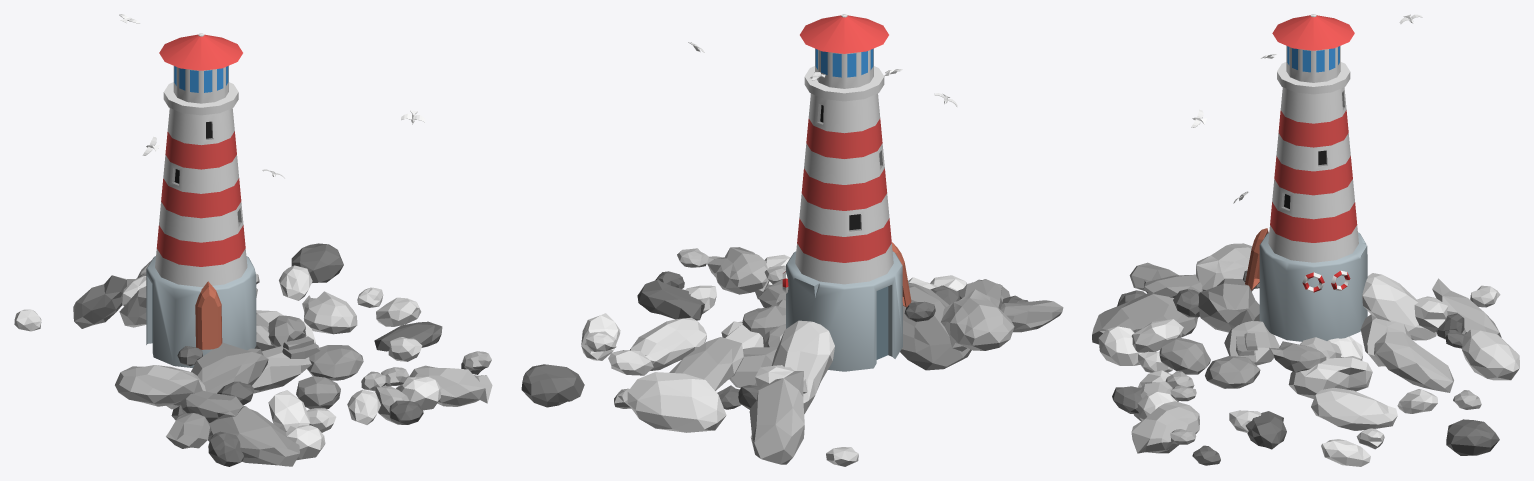
The model's file is lighthouse.glb.
3 renders of one model, left to right at view 1: azimuth 30°, elevation 25°; view 2: azimuth 150°, elevation 25°; view 3: azimuth 270°, elevation 25°, orthographic. The views are drawn at different scales.
Parts seen in each view (by area): view 1: land_49051, land_49001, land_49022, land_49044, land_49019, land_49025, land_49049, land_49029, land_49004, land_49031, land_49023, land_49005 (+14 smaller); view 2: land_49051, land_49001, land_49006, land_49019, land_49022, land_49036, land_49025, land_49048, land_49044, land_49031, land_49013, land_49037 (+5 smaller); view 3: land_49051, land_49001, land_49048, land_49025, land_49036, land_49044, land_49008, land_49006, land_49022, land_49031, land_49005, land_49019 (+18 smaller).
Part boxes in pixels (x1,y1,x2,y2): land_49051: [146, 33, 256, 367]; land_49001: [166, 342, 299, 466]; land_49022: [115, 365, 205, 409]; land_49044: [409, 365, 492, 406]; land_49019: [73, 275, 134, 328]; land_49025: [302, 291, 357, 334]; land_49049: [195, 281, 222, 349]; land_49029: [307, 345, 363, 380]; land_49004: [252, 345, 311, 393]; land_49031: [291, 243, 343, 282]; land_49023: [268, 390, 309, 431]; land_49005: [296, 376, 340, 409]; land_49051: [786, 14, 902, 371]; land_49001: [900, 279, 1063, 370]; land_49006: [627, 372, 726, 432]; land_49019: [749, 371, 804, 464]; land_49022: [941, 289, 1014, 351]; land_49036: [771, 320, 834, 413]; land_49025: [629, 317, 706, 370]; land_49048: [669, 337, 743, 390]; land_49044: [707, 247, 767, 294]; land_49031: [521, 364, 584, 407]; land_49013: [637, 280, 704, 320]; land_49037: [729, 347, 777, 388]; land_49051: [1259, 14, 1367, 341]; land_49001: [1092, 262, 1259, 344]; land_49048: [1374, 332, 1453, 392]; land_49025: [1311, 387, 1397, 430]; land_49036: [1362, 273, 1436, 340]; land_49044: [1131, 401, 1199, 453]; land_49008: [1288, 357, 1372, 398]; land_49006: [1462, 329, 1519, 380]; land_49022: [1196, 243, 1253, 291]; land_49031: [1446, 419, 1499, 455]; land_49005: [1159, 337, 1210, 374]; land_49019: [1432, 278, 1501, 337].
Size of the model in its own units: 13.52 by 13.19 by 14.59.
Materials: 1 (1 with a texture image).
